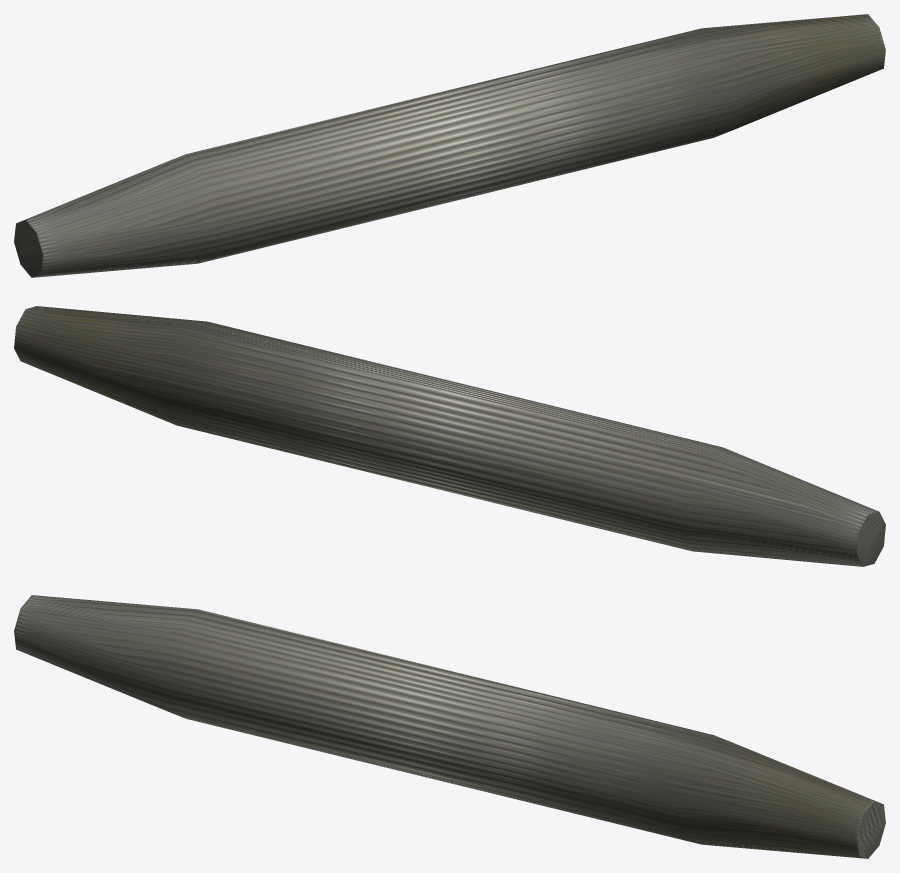
File: Protector.FBX
3 renders of one model, top to bottom at view 1: azimuth 30°, elevation 25°; view 2: azimuth 150°, elevation 25°; view 3: azimuth 330°, elevation 25°, orthographic.
Visible parts, largest first — view 1: Protector; view 2: Protector; view 3: Protector.
Part boxes in pixels (x1,y1,x2,y2): Protector: (14,14,885,277); Protector: (14,306,885,566); Protector: (14,595,885,858).
Bounding box in the file's own units: 0.2622 × 0.03 × 0.0296.
1 material, 1 textured.
